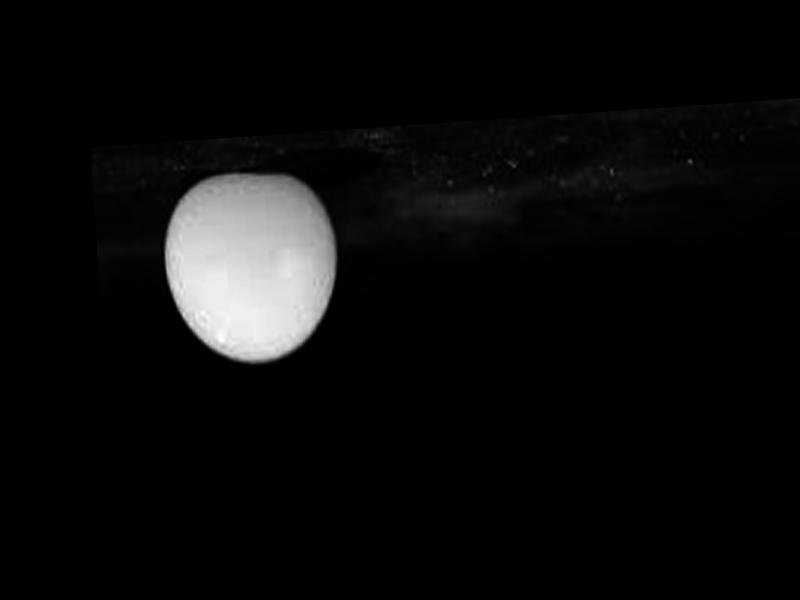Eggs: (159, 169, 345, 370)
